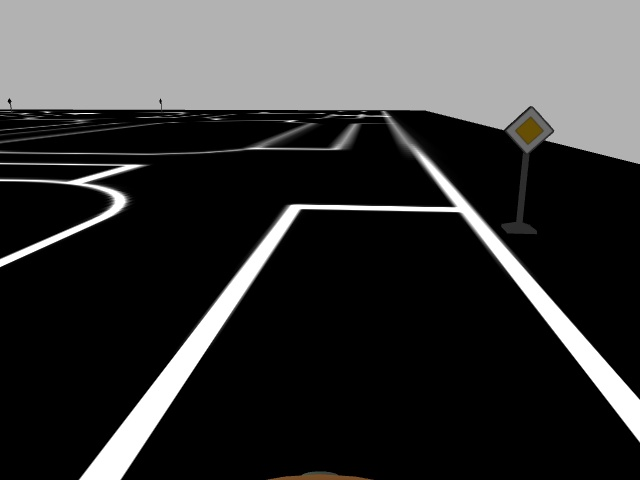priority: (502, 105, 556, 155)
